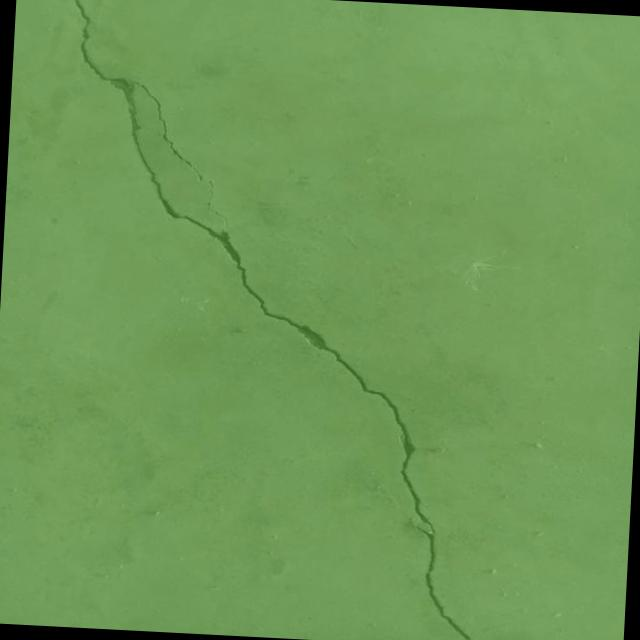crack: (39, 0, 553, 640)
